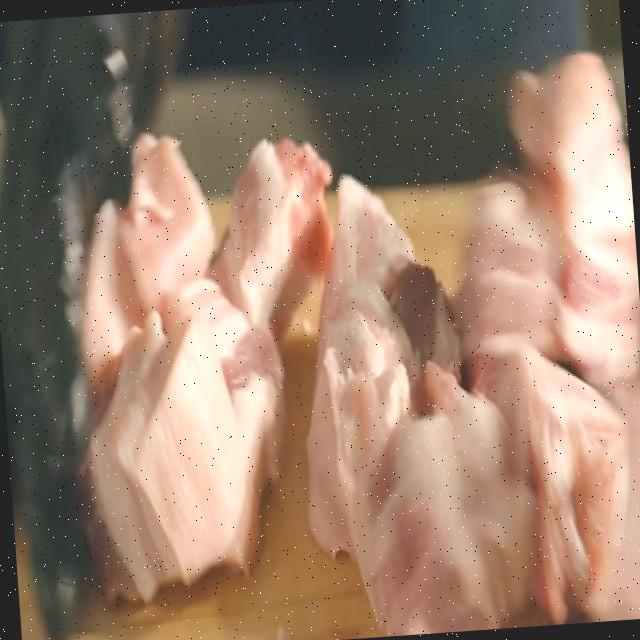meat: (308, 170, 471, 496), (92, 320, 290, 564), (216, 132, 334, 318)
